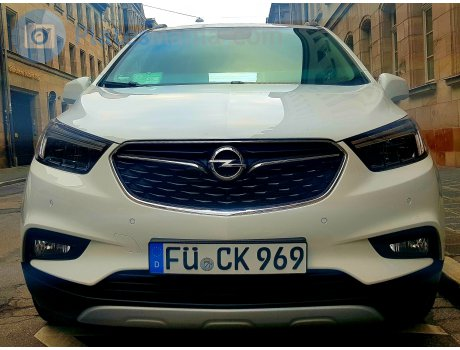License Plates: (163, 244, 302, 271)
